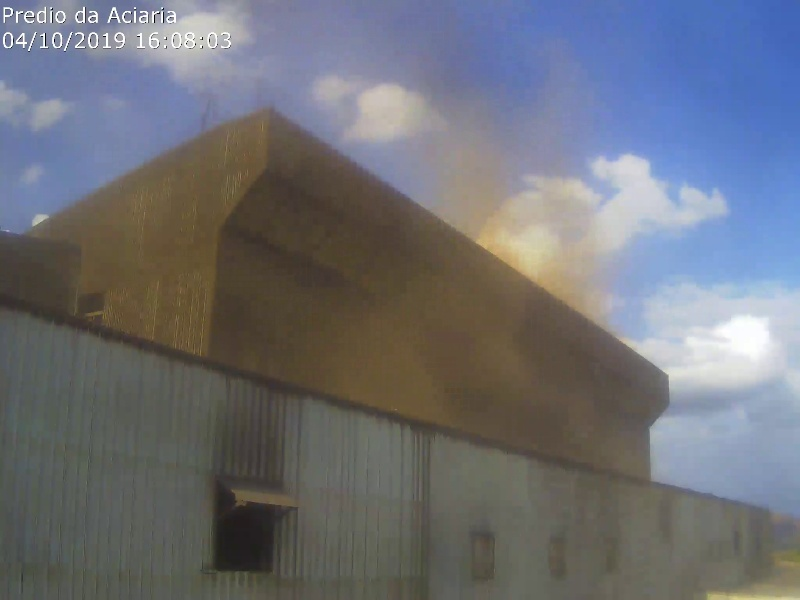pessimo: (272, 94, 624, 437)
ruim: (343, 26, 597, 197)
